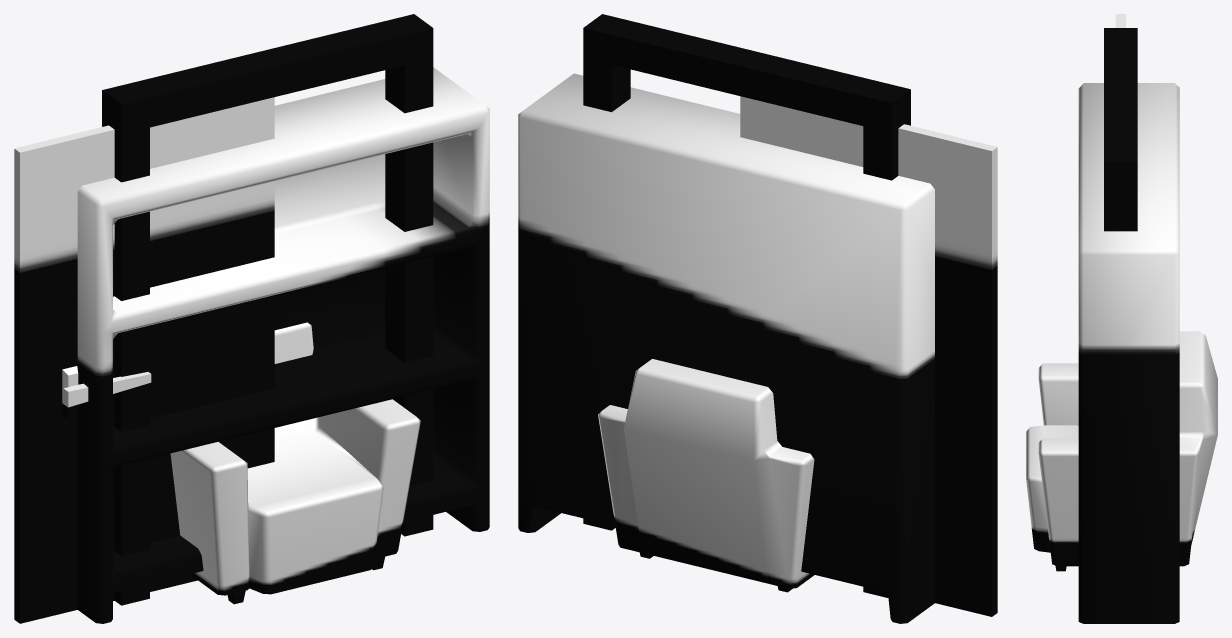
Rendered from Interior Models Ex.fbx.
3 renders of one model, left to right at view 1: azimuth 30°, elevation 25°; view 2: azimuth 150°, elevation 25°; view 3: azimuth 270°, elevation 25°, orthographic. The views are drawn at different scales.
Parts seen in each view (by area): view 1: Cube.007, Cube.002, Cube.001, Cube.006; view 2: Cube.007, Cube.002, Cube.006, Cube.001; view 3: Cube.007, Cube.006, Cube.001.
Part boxes in pixels (x1,y1,x2,y2): Cube.007: [77, 67, 489, 623]; Cube.002: [14, 97, 274, 623]; Cube.001: [102, 14, 433, 605]; Cube.006: [170, 322, 420, 604]; Cube.007: [518, 73, 934, 623]; Cube.002: [740, 96, 997, 616]; Cube.006: [598, 359, 814, 592]; Cube.001: [583, 14, 910, 597]; Cube.007: [1078, 83, 1179, 623]; Cube.006: [1026, 331, 1217, 571]; Cube.001: [1104, 28, 1137, 231].
Bounding box in the file's own units: 2.86 × 3.04 × 1.19.
